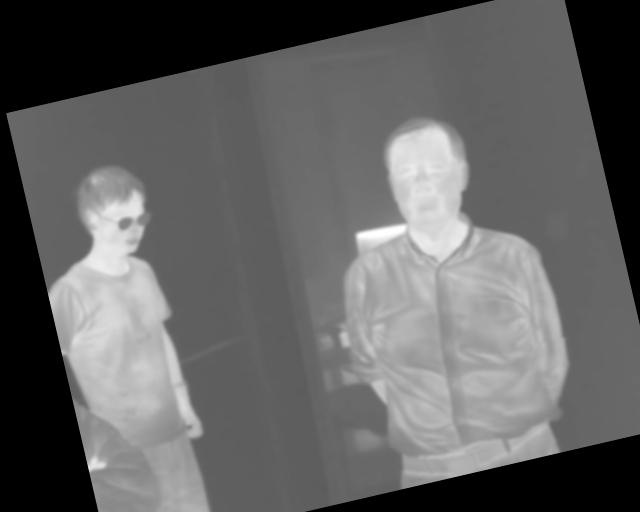face: (373, 106, 482, 242), (67, 155, 158, 264)
